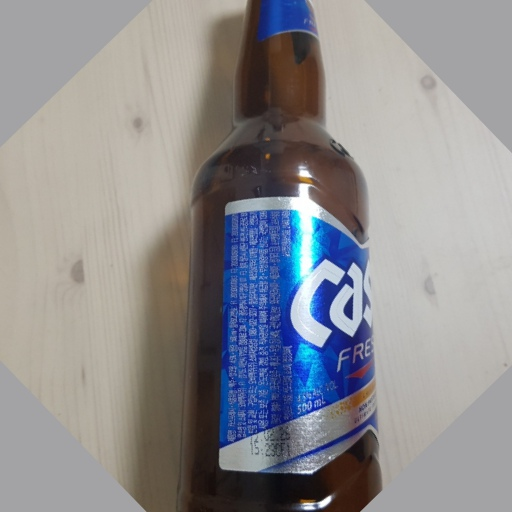Glass_1: (167, 2, 384, 512)
